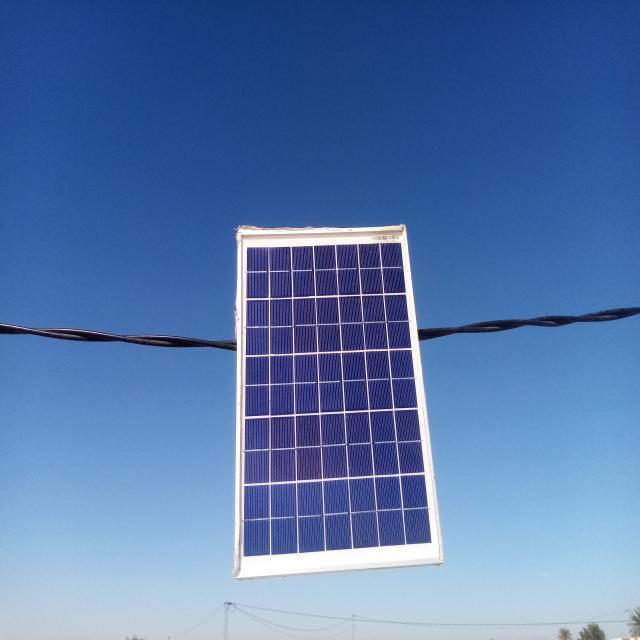Normal Solar Panel: (240, 230, 442, 576)
